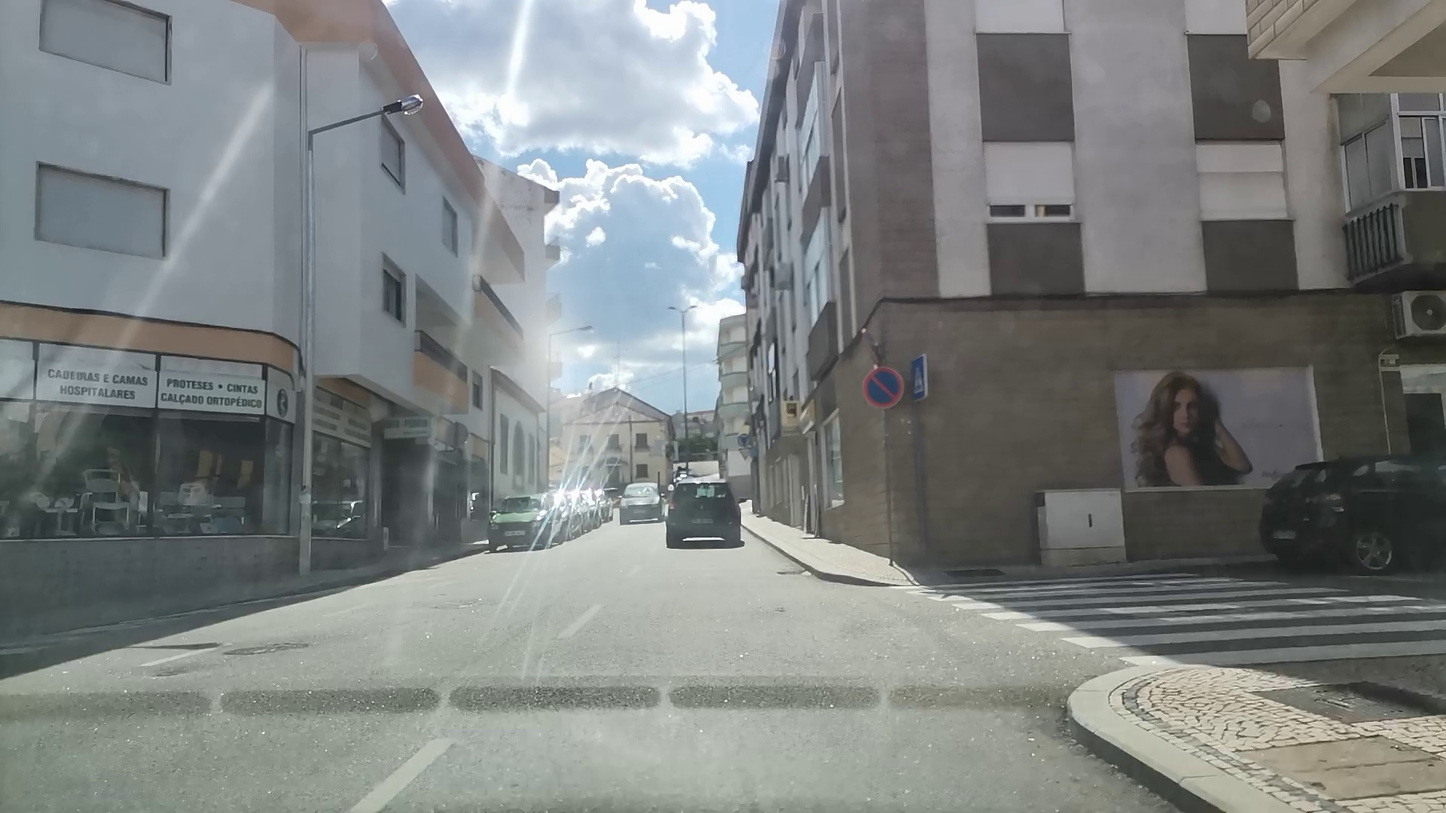Stairs: (892, 573, 1441, 664)
